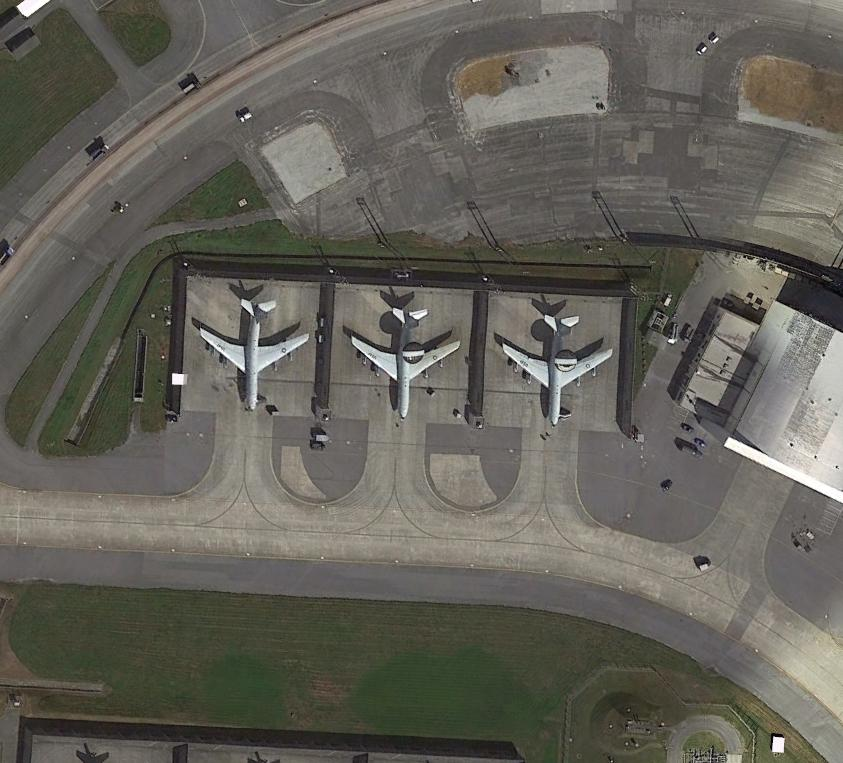A11: (194, 290, 313, 409)
A7: (343, 297, 462, 416), (497, 305, 616, 424)
